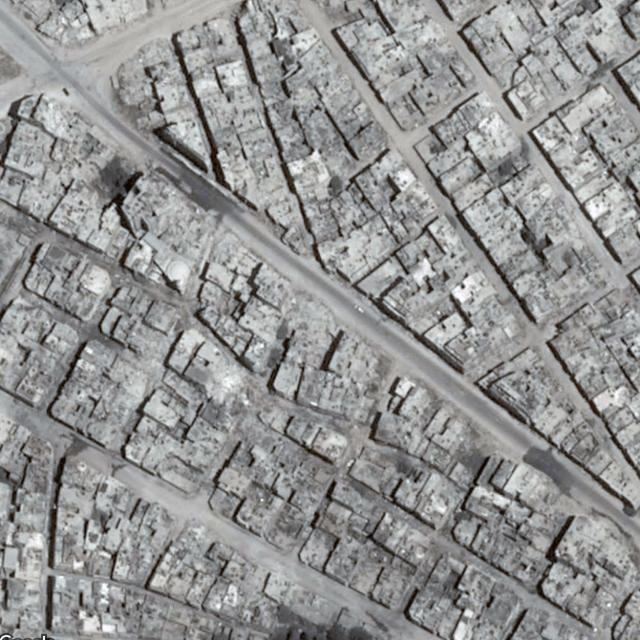damaged_building: (117, 43, 192, 117), (282, 288, 340, 372)
